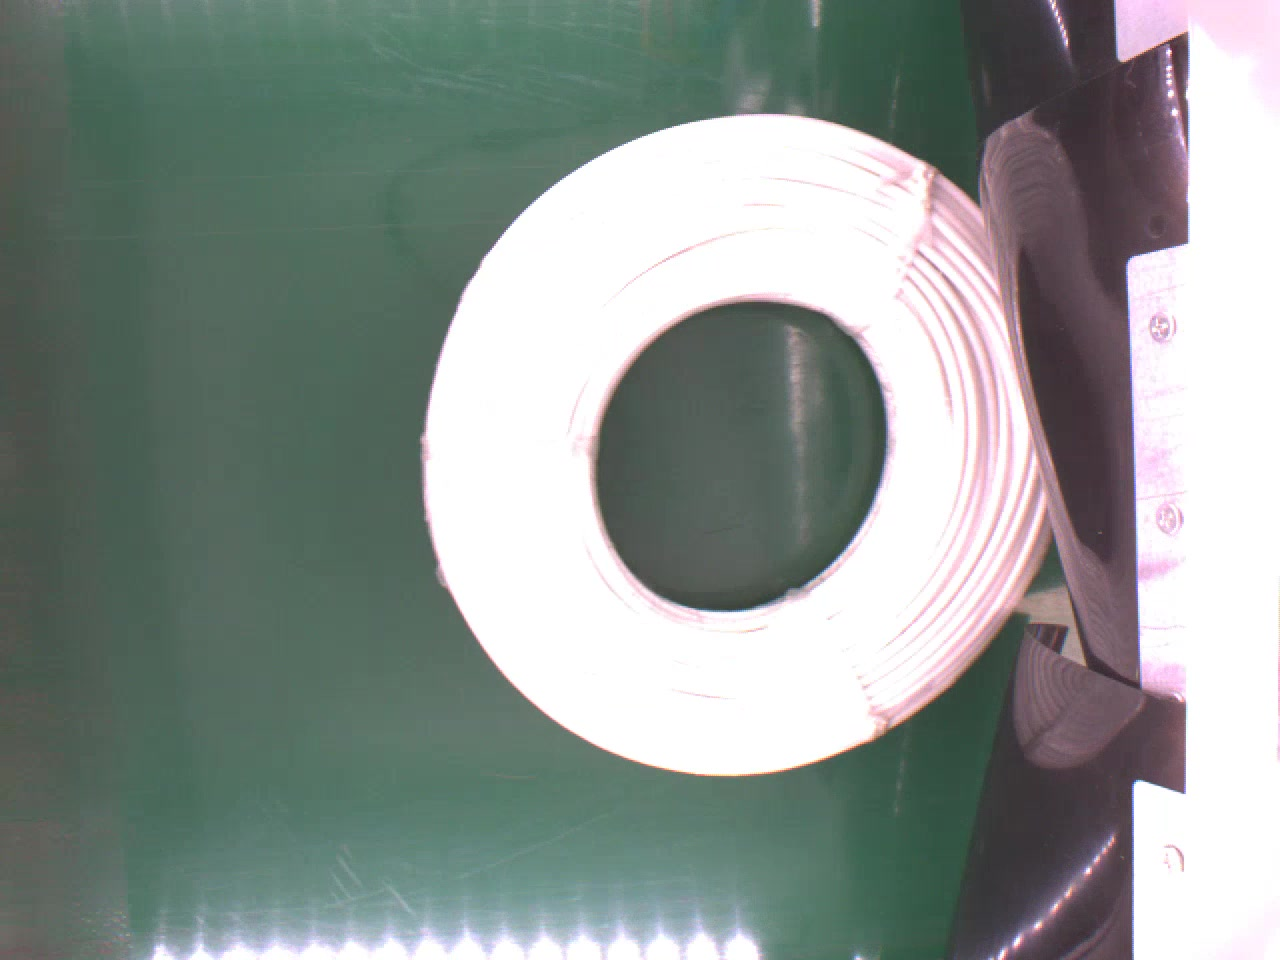white: (418, 110, 1048, 772)
